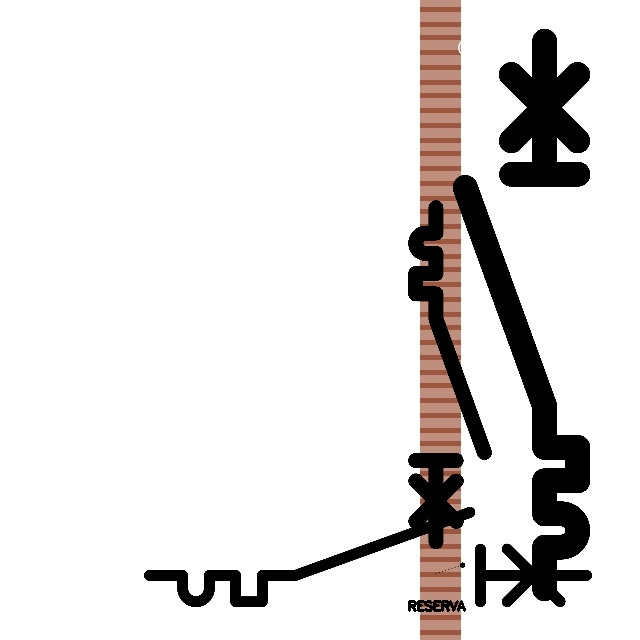interruptor_termomagnetico: (451, 27, 592, 603), (138, 501, 598, 613), (407, 199, 493, 550)
